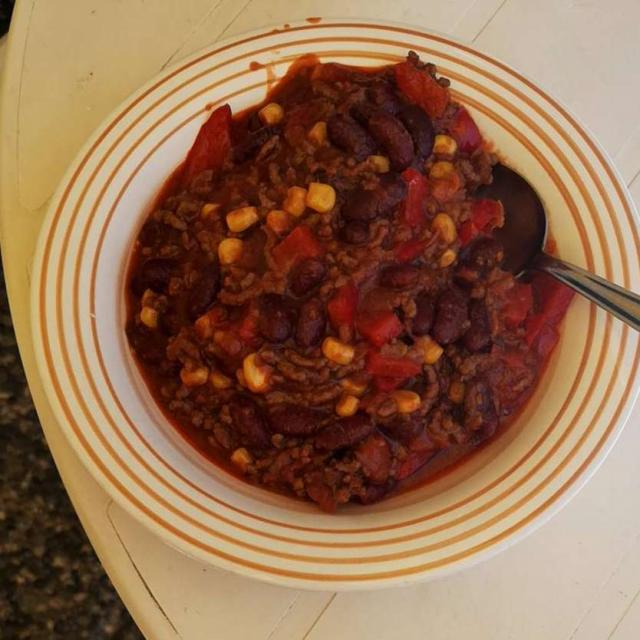chili-con-carne-prepared: (129, 55, 554, 500)
sweet-corn-canned: (162, 105, 455, 412)
